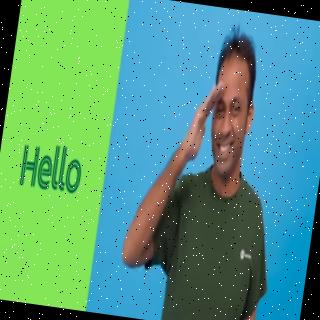Hello: (112, 15, 300, 320)
